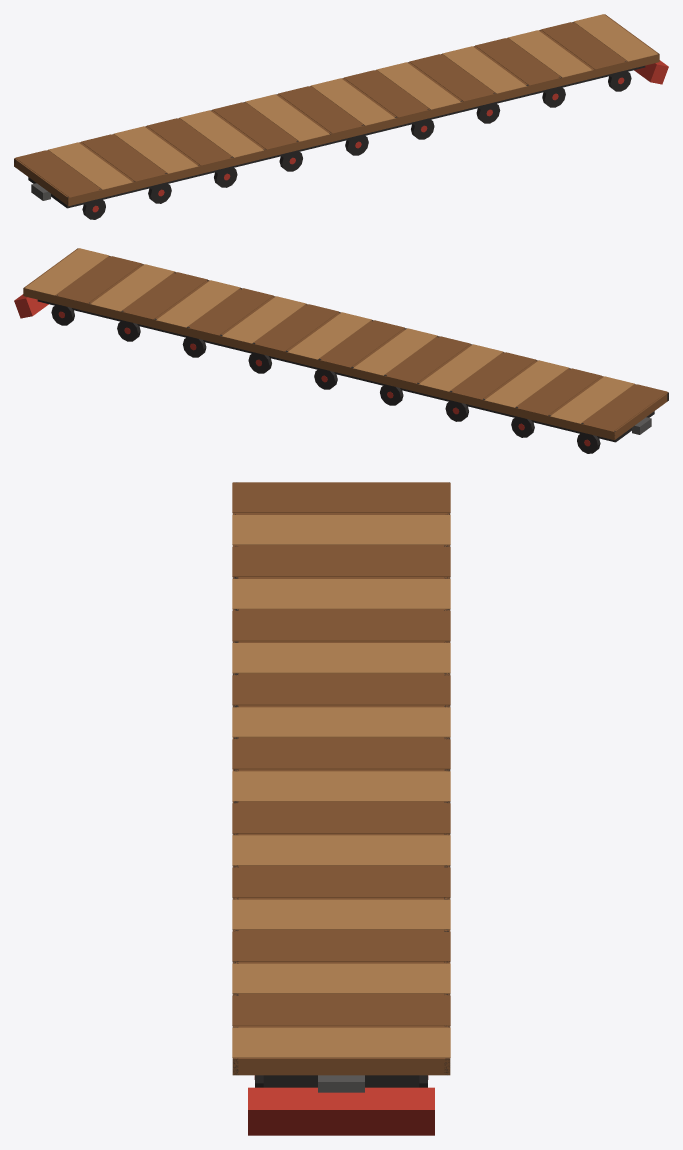
File: Train.fbx
The picture shows the model from 3 angles, top to bottom: view 1: azimuth 30°, elevation 25°; view 2: azimuth 150°, elevation 25°; view 3: azimuth 270°, elevation 25°; orthographic projection. The views are drawn at different scales.
Parts seen in each view (by area): view 1: Detail, Deck, Frame; view 2: Detail, Deck, Frame; view 3: Detail, Deck, Frame.
Boxes of the visible parts, bbox=[...] form: Detail: bbox=[14, 14, 668, 212]; Deck: bbox=[14, 14, 659, 206]; Frame: bbox=[28, 65, 645, 219]; Detail: bbox=[14, 248, 668, 446]; Deck: bbox=[23, 248, 668, 440]; Frame: bbox=[37, 299, 654, 453]; Detail: bbox=[232, 482, 450, 1135]; Deck: bbox=[232, 482, 450, 1075]; Frame: bbox=[255, 1075, 427, 1087].
Size of the model in its own units: 90 by 5 by 14.
